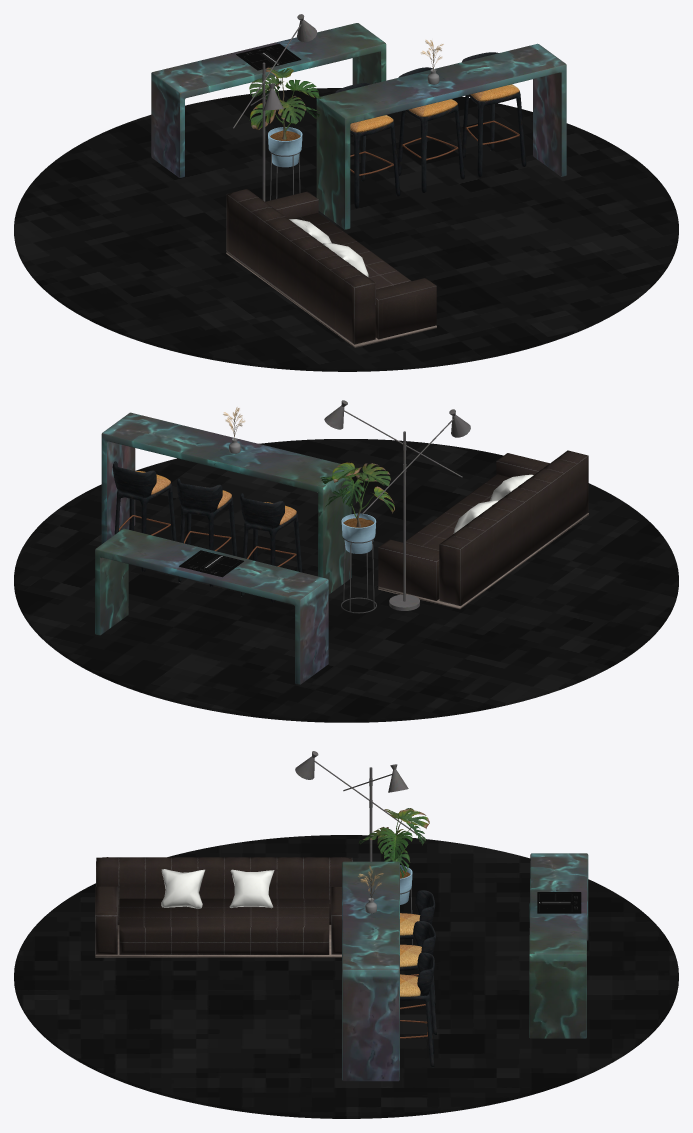
File: Nuclear Reset.gltf
3 views of the same model, one above another, from view 1: azimuth 30°, elevation 25°; view 2: azimuth 150°, elevation 25°; view 3: azimuth 270°, elevation 25° (orthographic).
Visible parts, largest first — view 1: 2.Floor, 1.sofa, 6.island.1, 6.island.2, 4.plant.1, 7.stool.1, 7.stool.3, 7.stool.2, 3.lamp, 11.Grill; view 2: 2.Floor, 1.sofa, 6.island.1, 6.island.2, 4.plant.1, 7.stool.1, 7.stool.2, 7.stool.3, 3.lamp, 11.Grill; view 3: 2.Floor, 1.sofa, 6.island.1, 6.island.2, 4.plant.1, 7.stool.1, 7.stool.3, 3.lamp, 7.stool.2, 11.Grill.
Boxes of the visible parts, x1,y1,x2,y2 form: 2.Floor: [14, 88, 678, 371]; 1.sofa: [226, 189, 436, 347]; 6.island.1: [316, 43, 566, 229]; 6.island.2: [151, 23, 386, 177]; 4.plant.1: [249, 67, 322, 200]; 7.stool.1: [462, 52, 526, 177]; 7.stool.3: [397, 67, 464, 192]; 7.stool.2: [335, 83, 400, 208]; 3.lamp: [233, 14, 316, 201]; 11.Grill: [236, 43, 301, 70]; 2.Floor: [14, 439, 678, 722]; 1.sofa: [378, 450, 588, 609]; 6.island.1: [101, 412, 351, 594]; 6.island.2: [95, 528, 328, 684]; 4.plant.1: [320, 462, 394, 613]; 7.stool.1: [112, 461, 176, 571]; 7.stool.2: [240, 493, 302, 602]; 7.stool.3: [177, 478, 237, 586]; 3.lamp: [324, 400, 470, 610]; 11.Grill: [179, 550, 243, 577]; 2.Floor: [14, 835, 678, 1118]; 1.sofa: [95, 857, 352, 957]; 6.island.1: [342, 861, 399, 1081]; 6.island.2: [529, 853, 588, 1038]; 4.plant.1: [358, 808, 429, 945]; 7.stool.1: [400, 952, 434, 1067]; 7.stool.3: [400, 921, 436, 1034]; 3.lamp: [295, 751, 423, 861]; 7.stool.2: [400, 890, 435, 1004]; 11.Grill: [537, 892, 581, 913].
Size of the model in its own units: 5.76 by 1.95 by 5.76.
